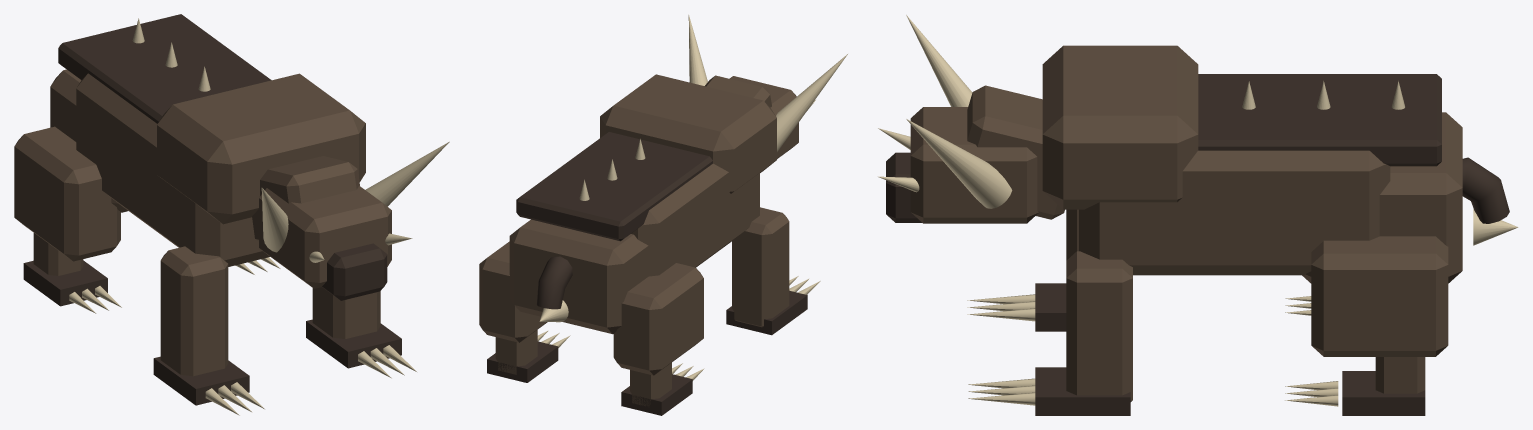
The picture shows the model from 3 angles, left to right: view 1: azimuth 30°, elevation 25°; view 2: azimuth 150°, elevation 25°; view 3: azimuth 270°, elevation 25°; orthographic projection. The views are drawn at different scales.
Parts seen in each view (by area): view 1: survival_klauwbeest; view 2: survival_klauwbeest; view 3: survival_klauwbeest.
Boxes of the visible parts, bbox=[...] form: survival_klauwbeest: bbox=[14, 14, 449, 415]; survival_klauwbeest: bbox=[479, 14, 847, 415]; survival_klauwbeest: bbox=[878, 15, 1518, 415].
Size of the model in its own units: 1.36 by 1.56 by 3.09.
